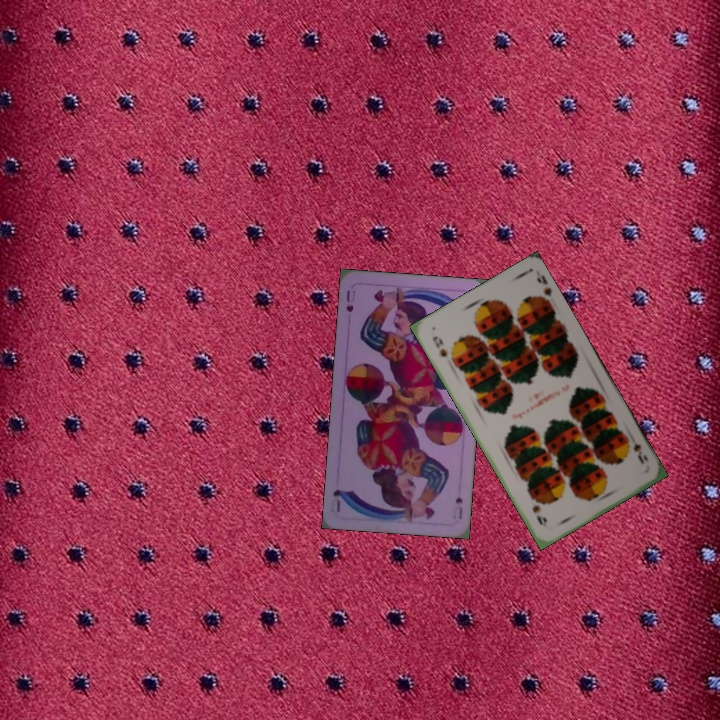S9: (622, 434, 651, 467), (428, 332, 450, 361)
SU: (450, 492, 465, 521), (342, 286, 356, 314)
